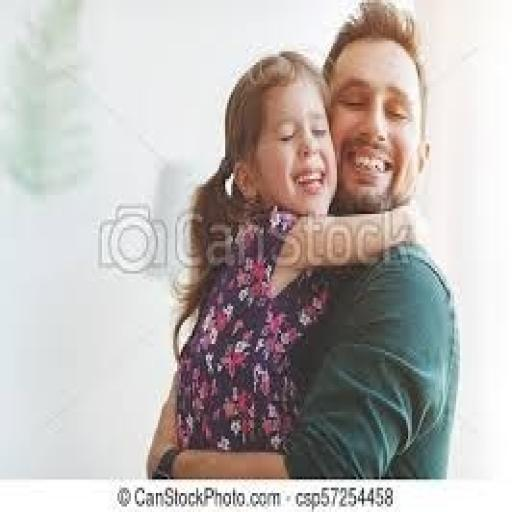hugging: (142, 0, 459, 479)
